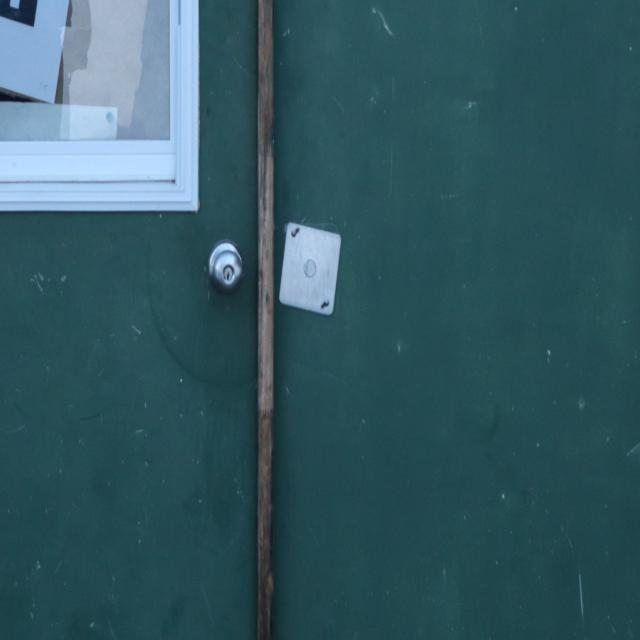door-knob: (209, 242, 242, 294)
